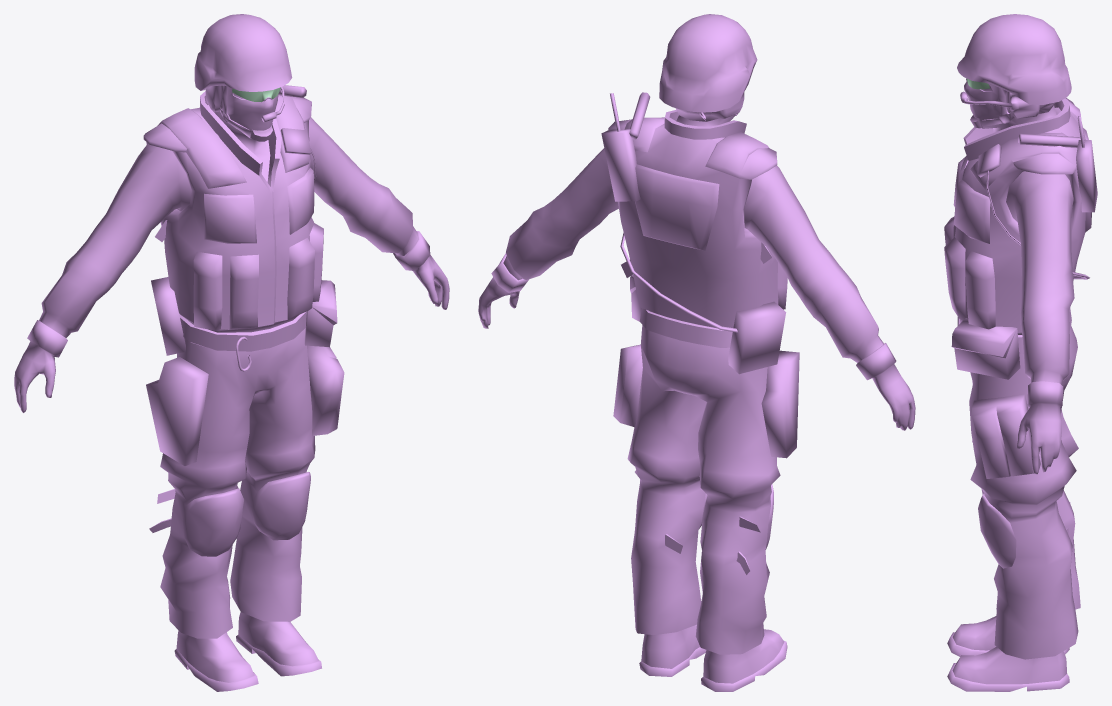
File: ct_urban.fbx
3 renders of one model, left to right at view 1: azimuth 30°, elevation 25°; view 2: azimuth 150°, elevation 25°; view 3: azimuth 270°, elevation 25°, orthographic.
Parts seen in each view (by area): view 1: ct_urban_reference; view 2: ct_urban_reference; view 3: ct_urban_reference.
Part boxes in pixels (bbox=[...]): ct_urban_reference: bbox=[14, 14, 449, 691]; ct_urban_reference: bbox=[478, 14, 915, 691]; ct_urban_reference: bbox=[944, 14, 1097, 691].
Bounding box in the file's own units: 5430 × 7768 × 1669.
